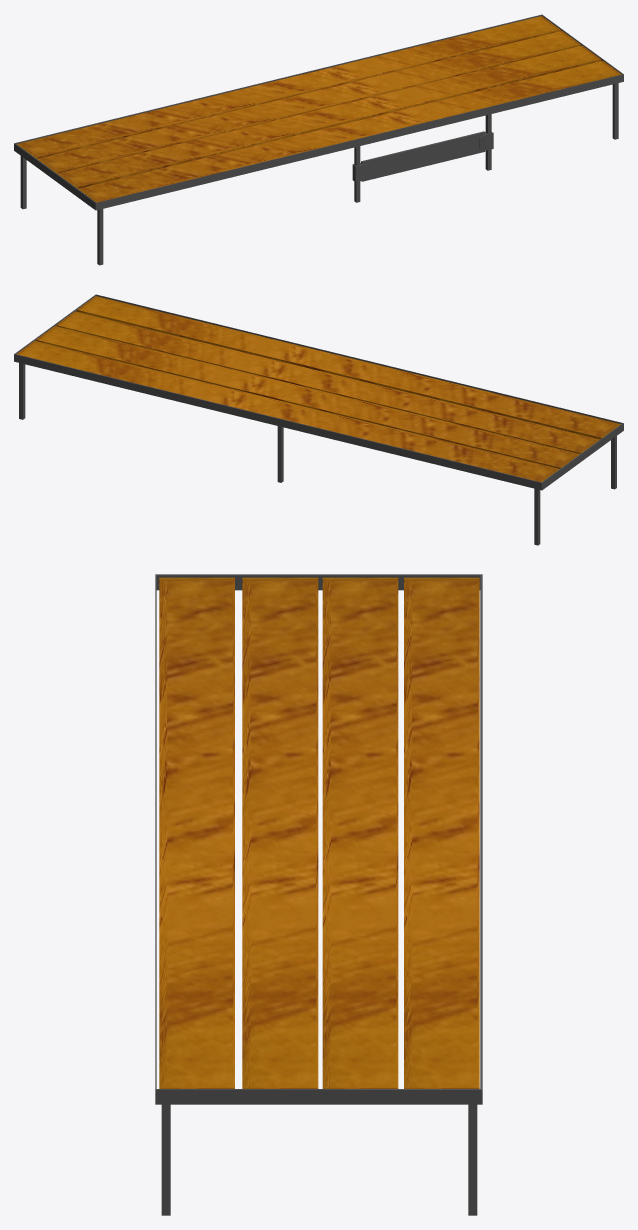
The model's file is plank copy.glb.
3 views of the same model, one above another, from view 1: azimuth 30°, elevation 25°; view 2: azimuth 150°, elevation 25°; view 3: azimuth 270°, elevation 25° (orthographic). The views are drawn at different scales.
Visible parts, largest first — view 1: Cube.001, Cube.002, Cube.004, Cube.003, Cube; view 2: Cube, Cube.003, Cube.002, Cube.004, Cube.001; view 3: Cube.002, Cube.003, Cube.004, Cube, Cube.001.
Boxes of the visible parts, box(x1,y1,x2,y2) form: Cube.001: box(14, 14, 623, 265); Cube.002: box(57, 45, 601, 188); Cube.004: box(17, 16, 560, 158); Cube.003: box(37, 31, 580, 173); Cube: box(78, 61, 621, 202); Cube: box(77, 296, 620, 439); Cube.003: box(36, 326, 579, 468); Cube.002: box(56, 311, 599, 453); Cube.004: box(16, 341, 559, 482); Cube.001: box(14, 294, 623, 545); Cube.002: box(242, 577, 318, 1088); Cube.003: box(322, 577, 398, 1088); Cube.004: box(404, 577, 479, 1088); Cube: box(159, 577, 234, 1088); Cube.001: box(155, 574, 482, 1215).
Bounding box in the file's own units: 12.13 × 1.42 × 3.25.
Materials: 2 (1 with a texture image).
